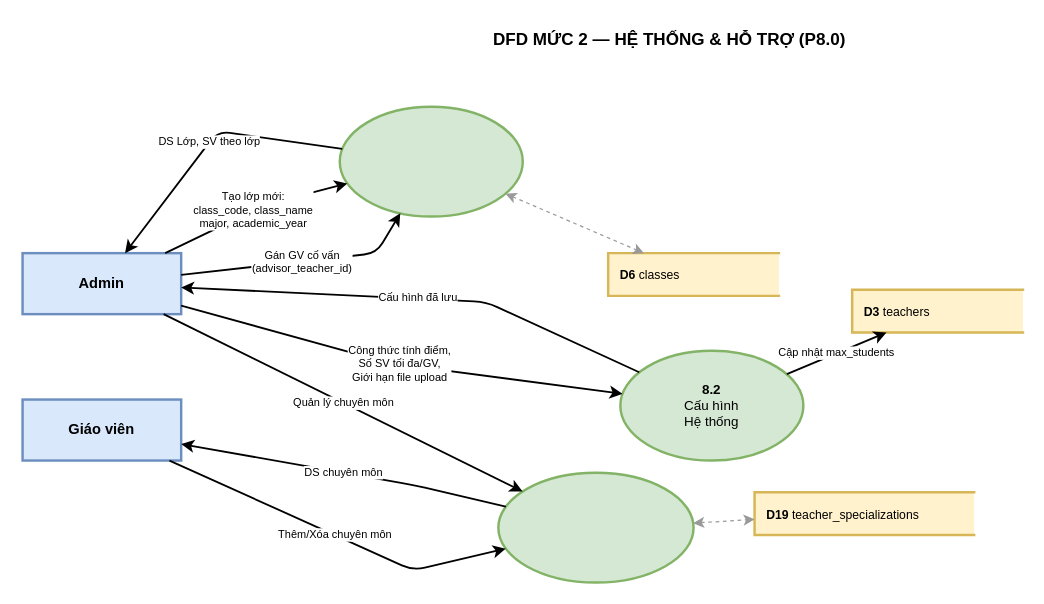
Some shapes in this 1044 by 604 pixel diagram are drawn without their labels. The centre of each missing label's shape, as x and y in pixels:
8.1 Quản lý Lớp học: point (430, 161)
8.4 Quản lý Chuyên môn GV: point (595, 527)
